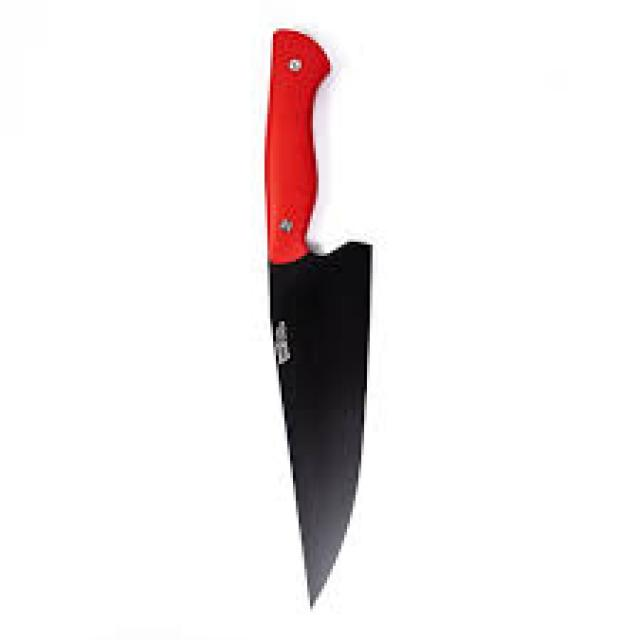Knife: (262, 25, 372, 606)
